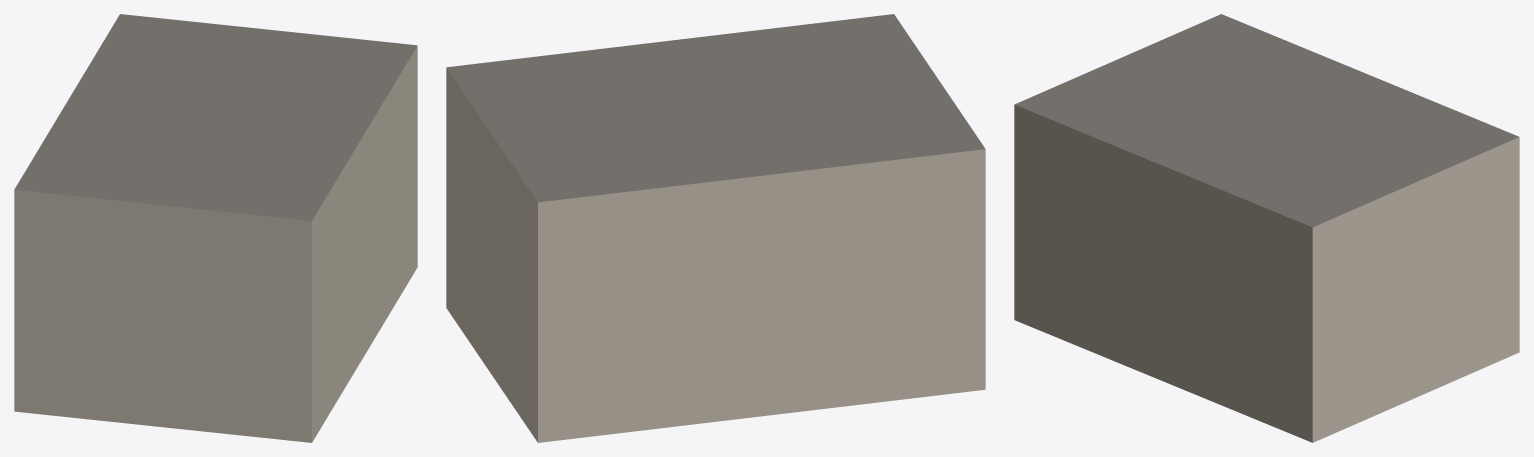
3 views of the same model, side by side, from view 1: azimuth 30°, elevation 25°; view 2: azimuth 150°, elevation 25°; view 3: azimuth 270°, elevation 25° (orthographic). The views are drawn at different scales.
Parts seen in each view (by area): view 1: HP-w1287059322; view 2: HP-w1287059322; view 3: HP-w1287059322.
Boxes of the visible parts, <box> form: HP-w1287059322: <box>14,14,417,442</box>; HP-w1287059322: <box>446,14,985,442</box>; HP-w1287059322: <box>1014,14,1519,442</box>.
Size of the model in its own units: 38.25 by 18 by 38.26.
